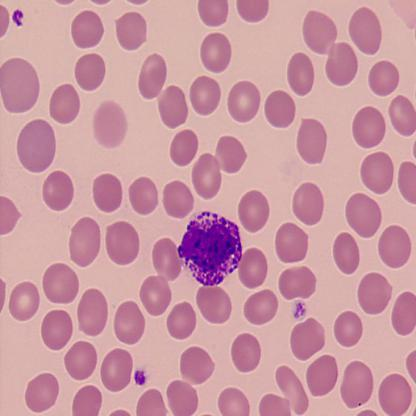Basophil: (175, 208, 243, 288)
